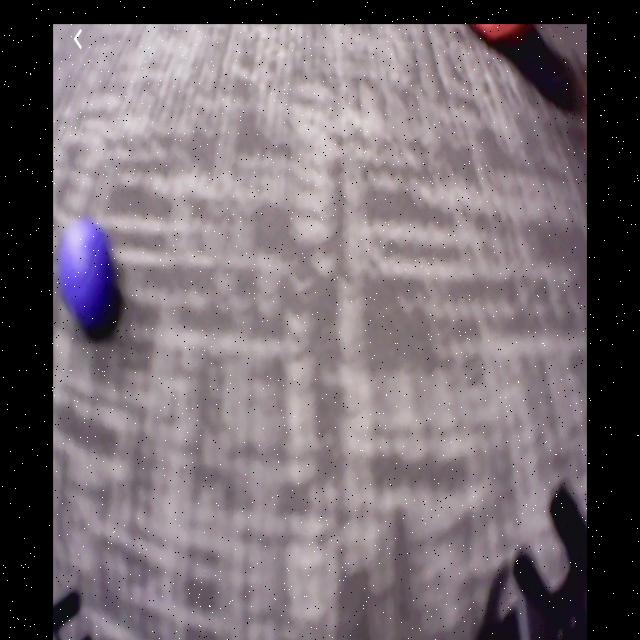ball: (60, 224, 116, 329)
